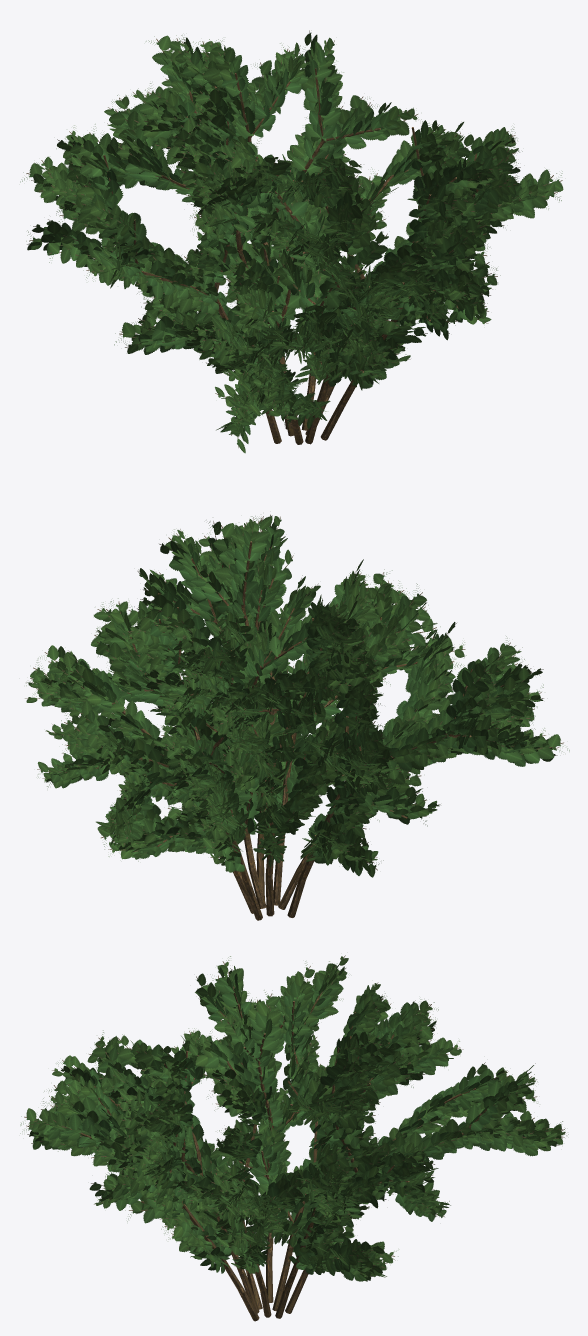
Rendered from alder_thicket_v01.glb.
3 views of the same model, one above another, from view 1: azimuth 30°, elevation 25°; view 2: azimuth 150°, elevation 25°; view 3: azimuth 270°, elevation 25° (orthographic). The views are drawn at different scales.
Visible parts, largest first — view 1: alder_thicket_v01; view 2: alder_thicket_v01; view 3: alder_thicket_v01.
Part boxes in pixels (x1,y1,x2,y2): alder_thicket_v01: (20, 30, 563, 453); alder_thicket_v01: (25, 514, 569, 920); alder_thicket_v01: (20, 955, 568, 1321).
Bounding box in the file's own units: 4.59 × 3.4 × 5.24.
Materials: 2 (2 with a texture image).
